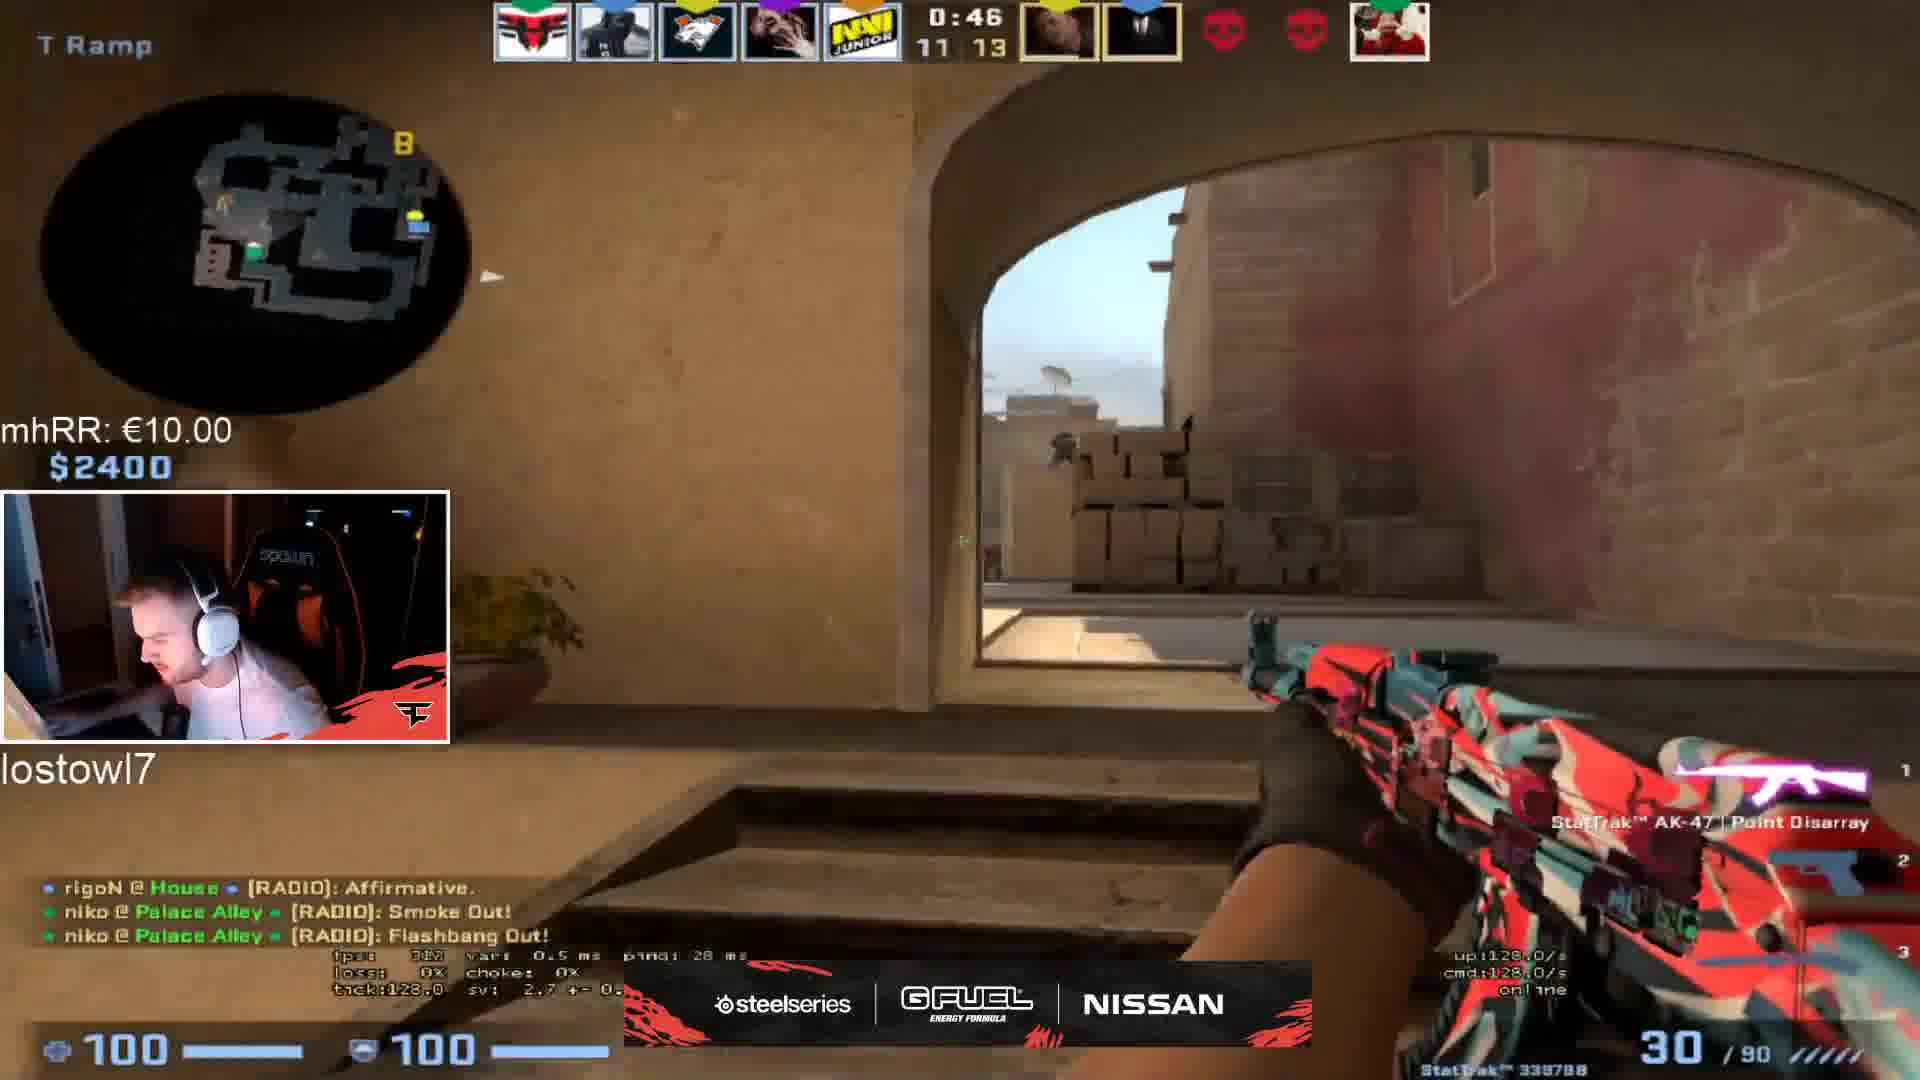enemy: (1048, 429, 1080, 469), (982, 541, 1006, 583)
